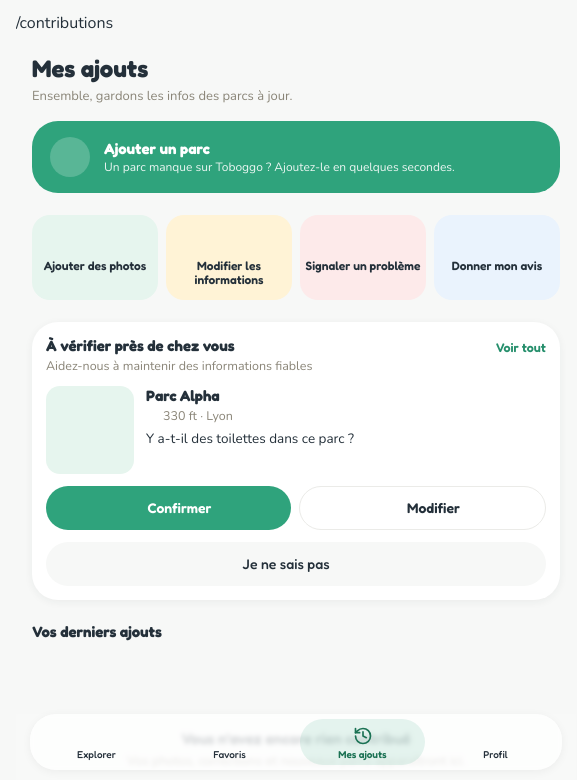
« Je ne sais pas » › affiche un état vide quand il n'en reste aucune
Expected: the text "Parc Alpha" is shown, 146,386 -> 220,405
What coordinates should you click on to do the following:
click the button "Je ne sais pas"
I would click on:
 (296, 564)
Its box is 46,542 -> 546,586.
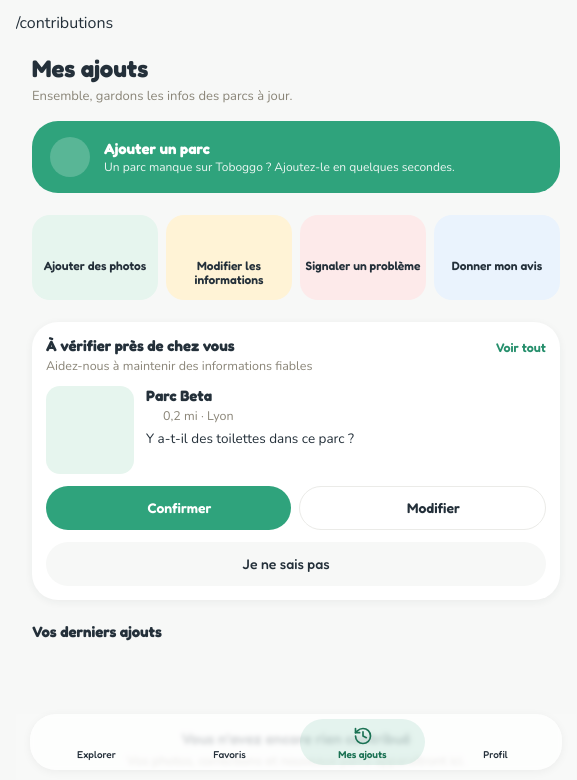
Now the text "Parc Beta" is shown, box 146,386 -> 212,405
What coordinates should you click on to do the following:
click the button "Je ne sais pas"
I would click on:
 (296, 564)
Its box is 46,542 -> 546,586.
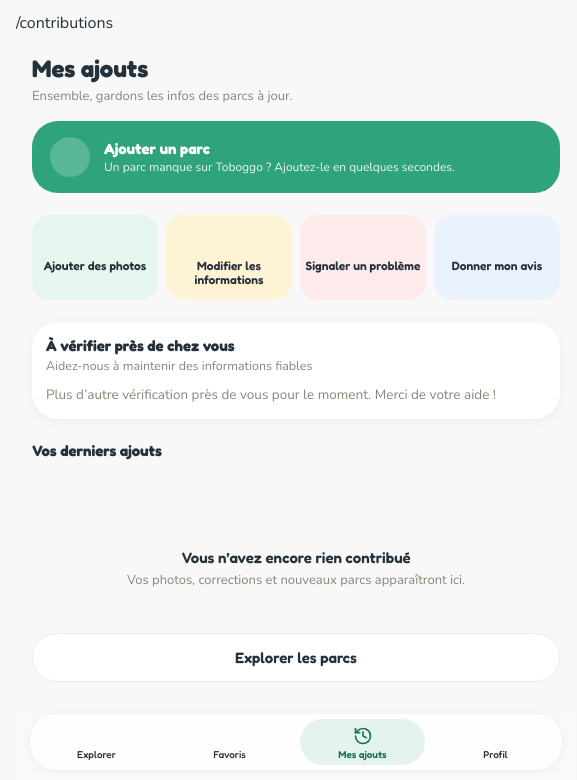
Now the text "Plus d’autre vérification" is shown, box 46,385 -> 496,404
